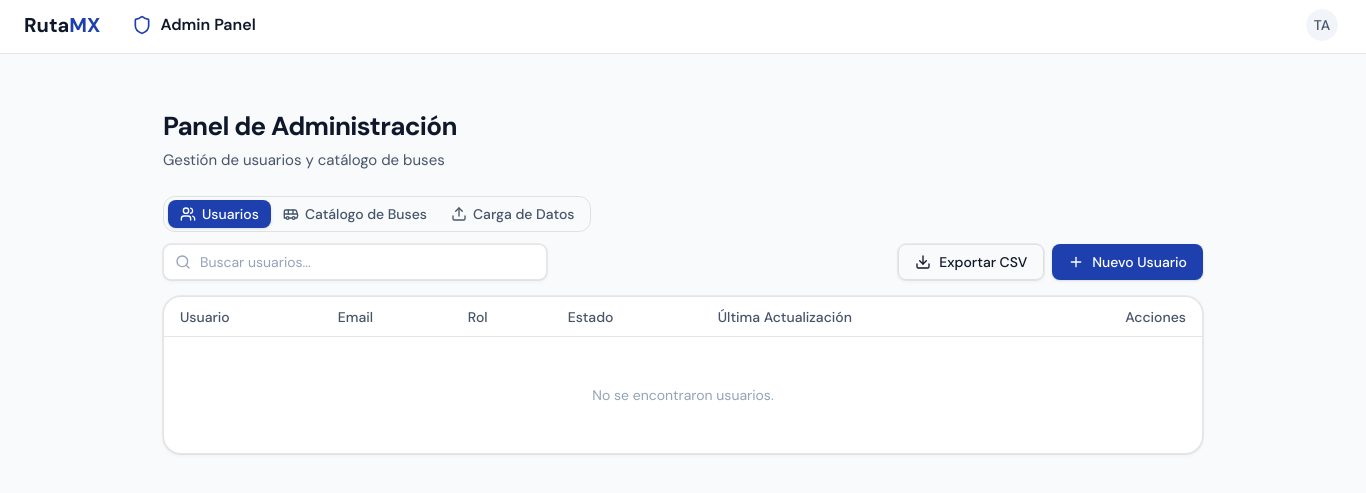
03 — Comparativa de modelos de autobús › muestra la tabla de modelos de autobús
// Admin page defaults to "usuarios" tab — switch to "Catálogo de Buses"
Click the tab "Catálogo de Buses". click: point(355, 214)
box: [271,200,439,228]
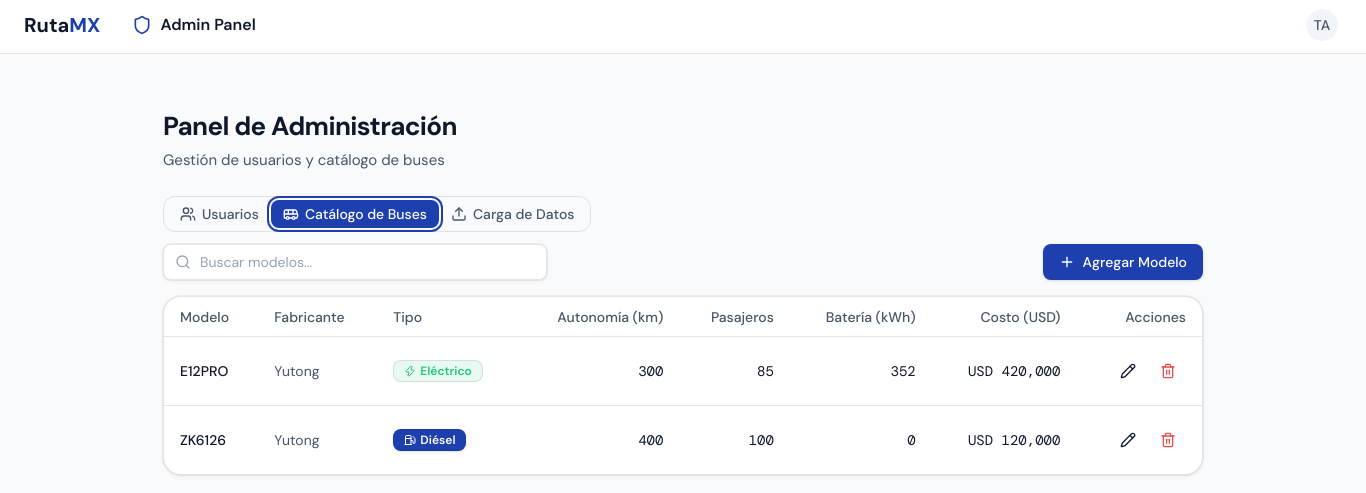
Expected: the element with test id "bus-models-table" is shown, [163,296,1203,476]
